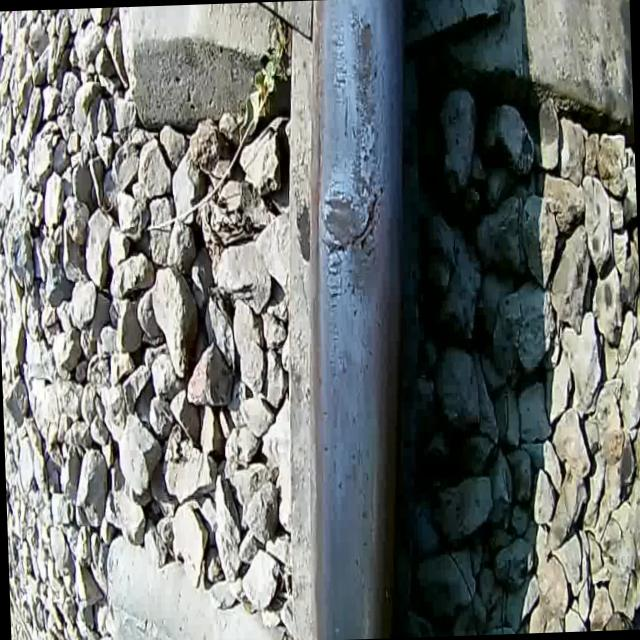Squats: (320, 188, 368, 246), (346, 242, 386, 307), (354, 13, 376, 74)
